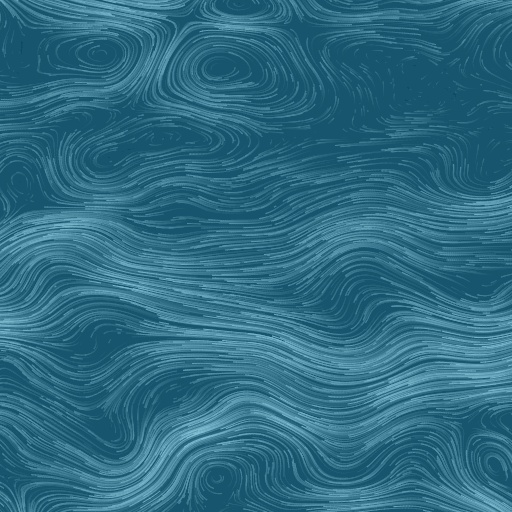eddy: (79, 119, 227, 184), (172, 35, 284, 107), (47, 31, 138, 79), (197, 456, 243, 499), (473, 444, 511, 492)
